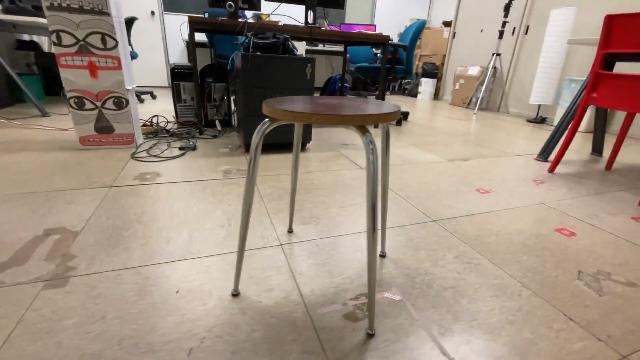Chair: (544, 7, 640, 179)
Lamp: (524, 3, 580, 127)
Stool: (227, 92, 405, 344)
